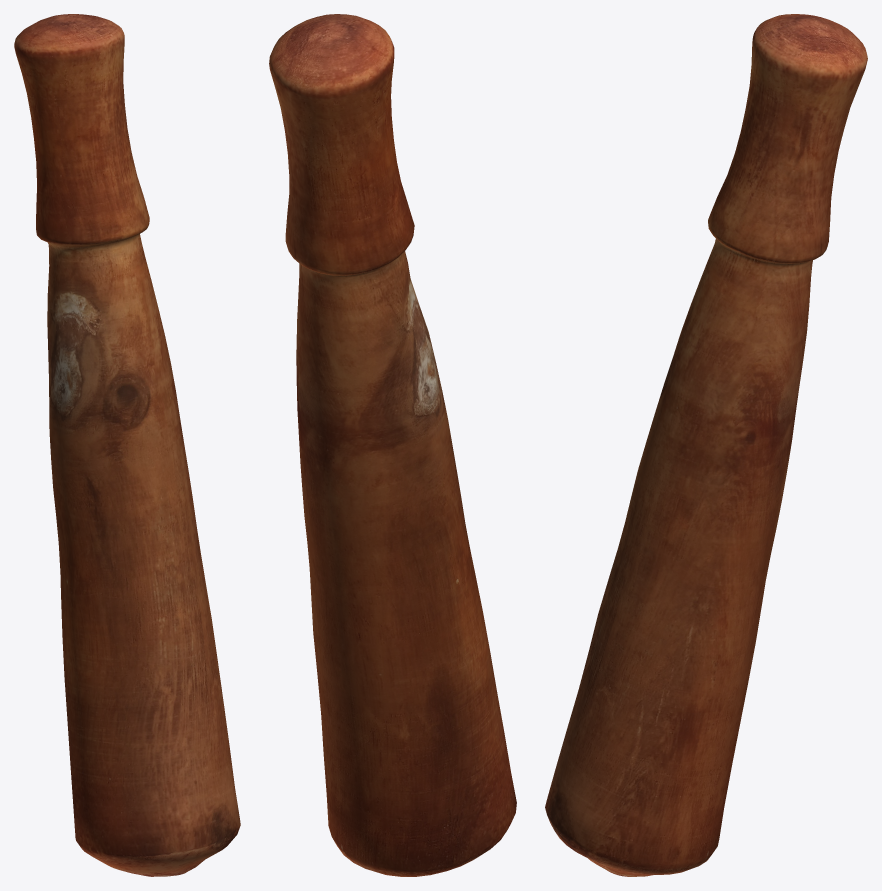
The model's file is Stick.fbx.
3 views of the same model, side by side, from view 1: azimuth 30°, elevation 25°; view 2: azimuth 150°, elevation 25°; view 3: azimuth 270°, elevation 25° (orthographic). The views are drawn at different scales.
Parts seen in each view (by area): view 1: Stick; view 2: Stick; view 3: Stick.
Boxes of the visible parts, left/top/right/bottom form: Stick: left=14, top=14, right=240, bottom=876; Stick: left=269, top=14, right=516, bottom=876; Stick: left=545, top=14, right=867, bottom=876.
Size of the model in its own units: 5.63 by 29.9 by 10.36.
1 material, 1 textured.
